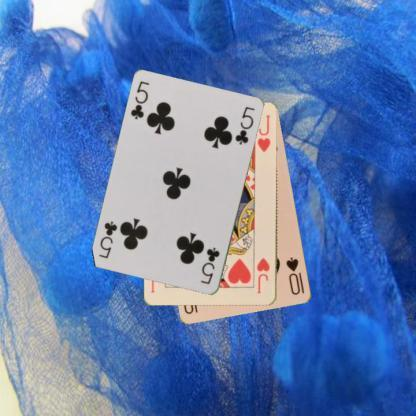10s: (284, 254, 306, 297)
5c: (128, 78, 150, 121), (198, 245, 221, 286)
Jh: (254, 255, 272, 295)
